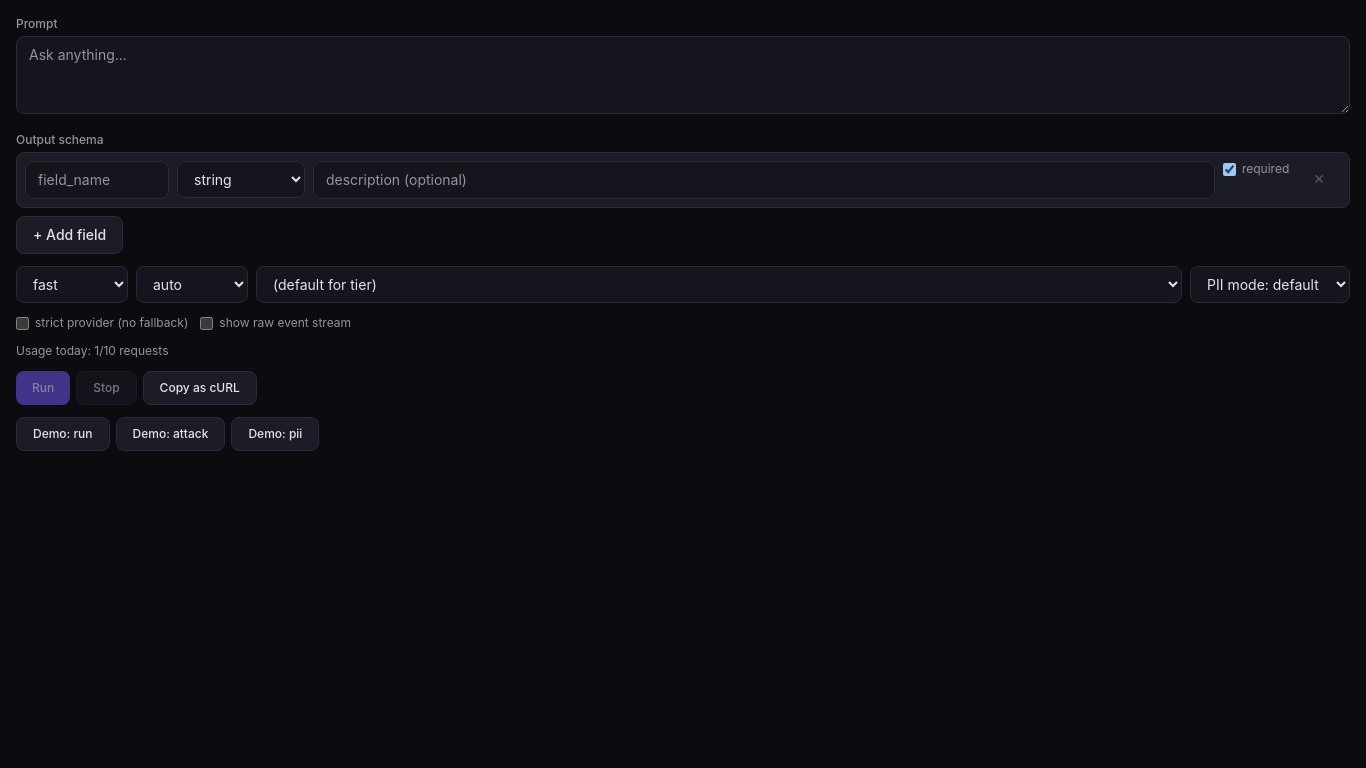
Test: LiveRunPanel error handling › shows a friendly message, a live countdown, and details for a 429
Step 1. Type "hi" into the text box with placeholder "Ask anything..." → (683, 75), box x1=16 y1=36 x2=1350 y2=114
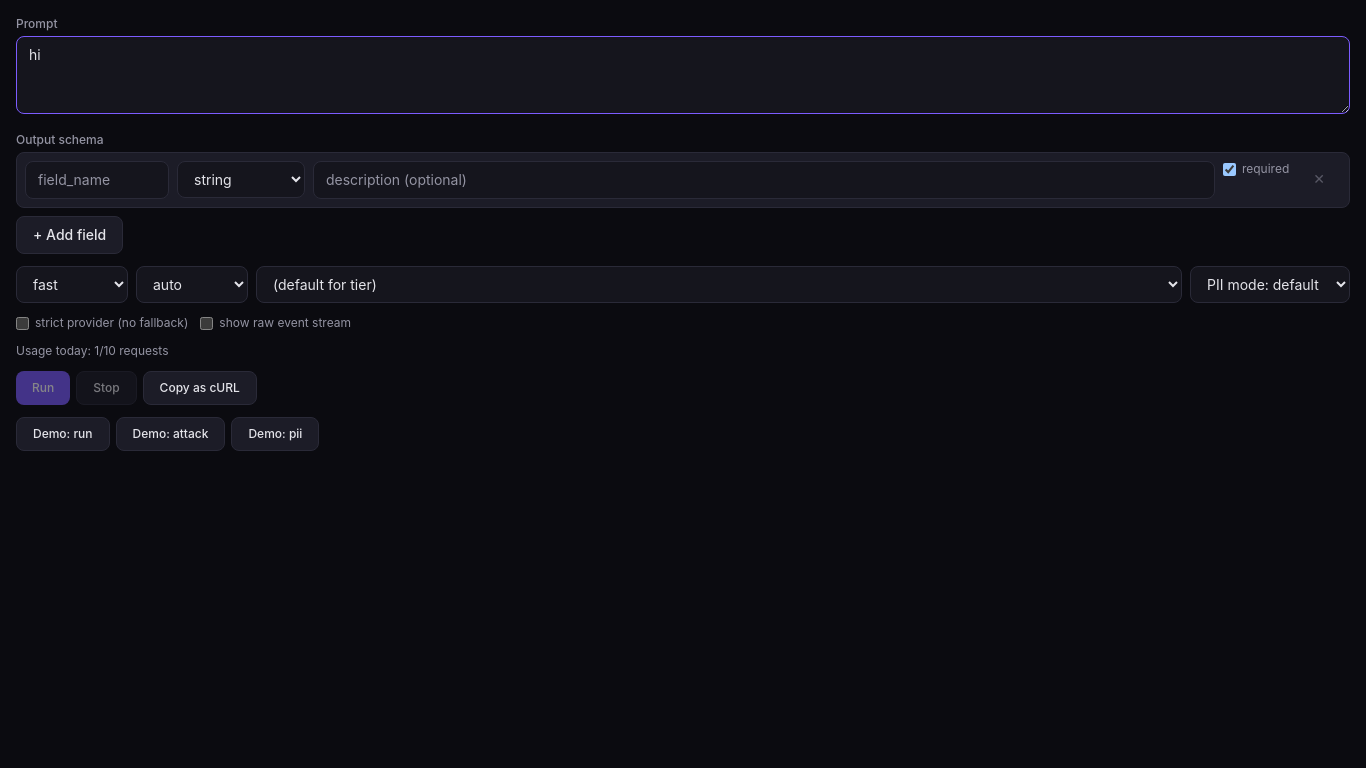
Step 2. Type "answer" into the field with placeholder "field_name" → (97, 180), box x1=25 y1=161 x2=169 y2=199
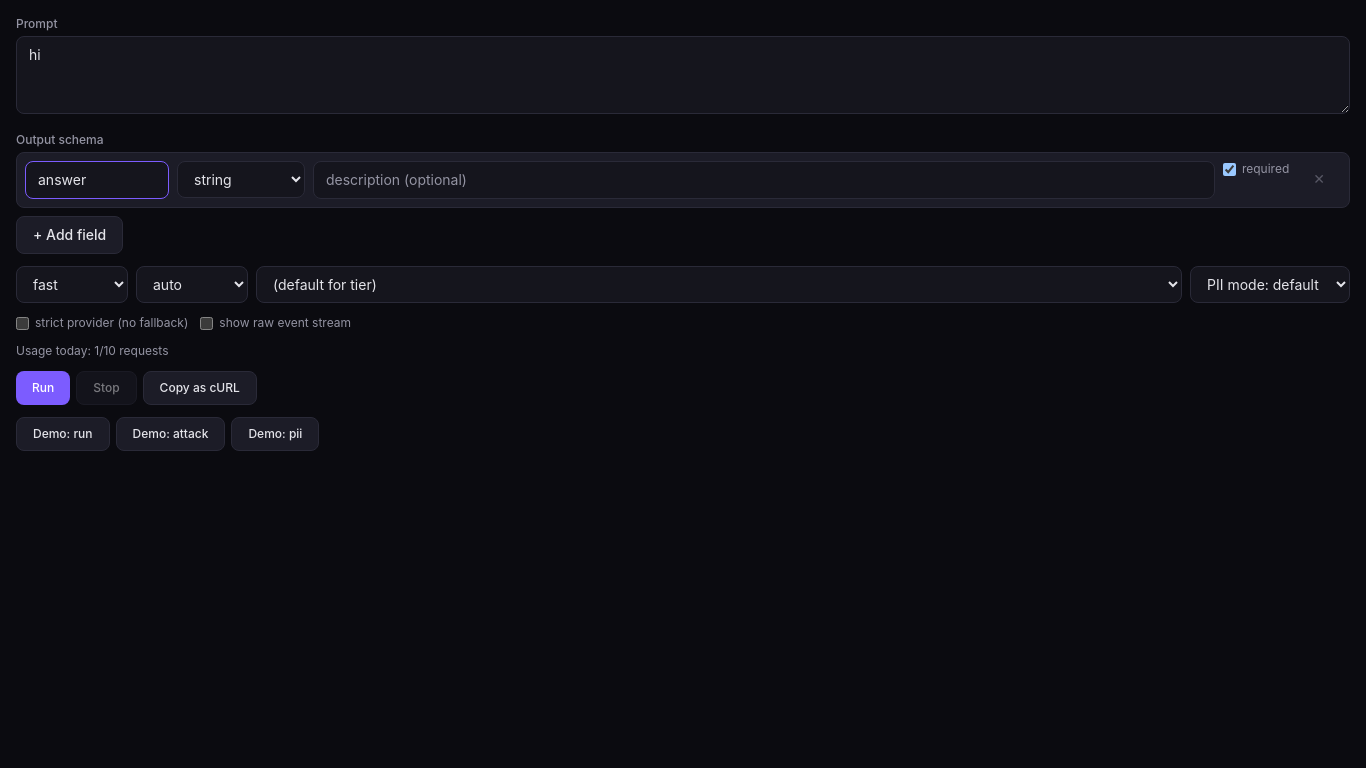
Expected: the button "Run" is enabled
Step 3. Click the button "Run" → (43, 388), box x1=16 y1=371 x2=70 y2=405
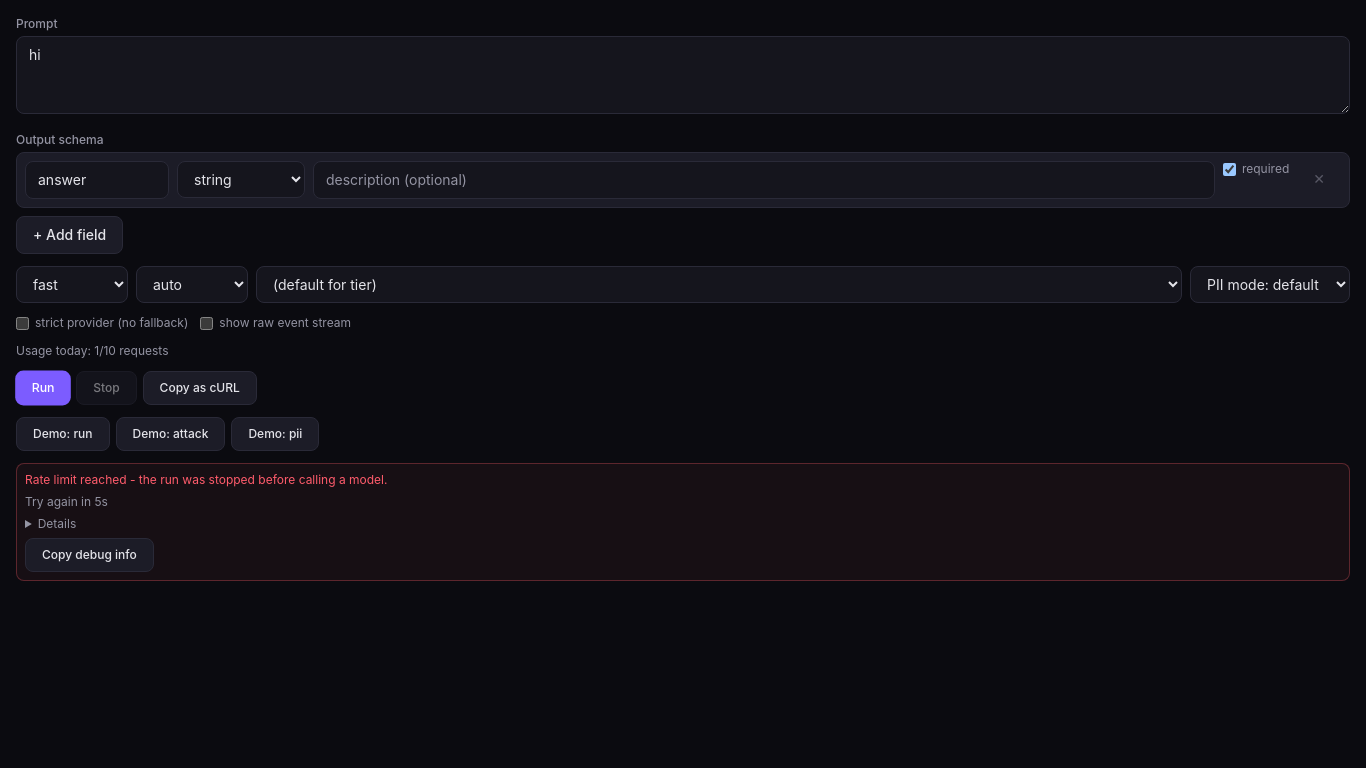
Expected: the text "Rate limit reached" is shown, x1=25 y1=472 x2=387 y2=487
Expected: the text "Try again in 5s" is shown, x1=25 y1=494 x2=108 y2=509
Step 4. Click the heading "Details" → (57, 524), box x1=38 y1=516 x2=76 y2=531
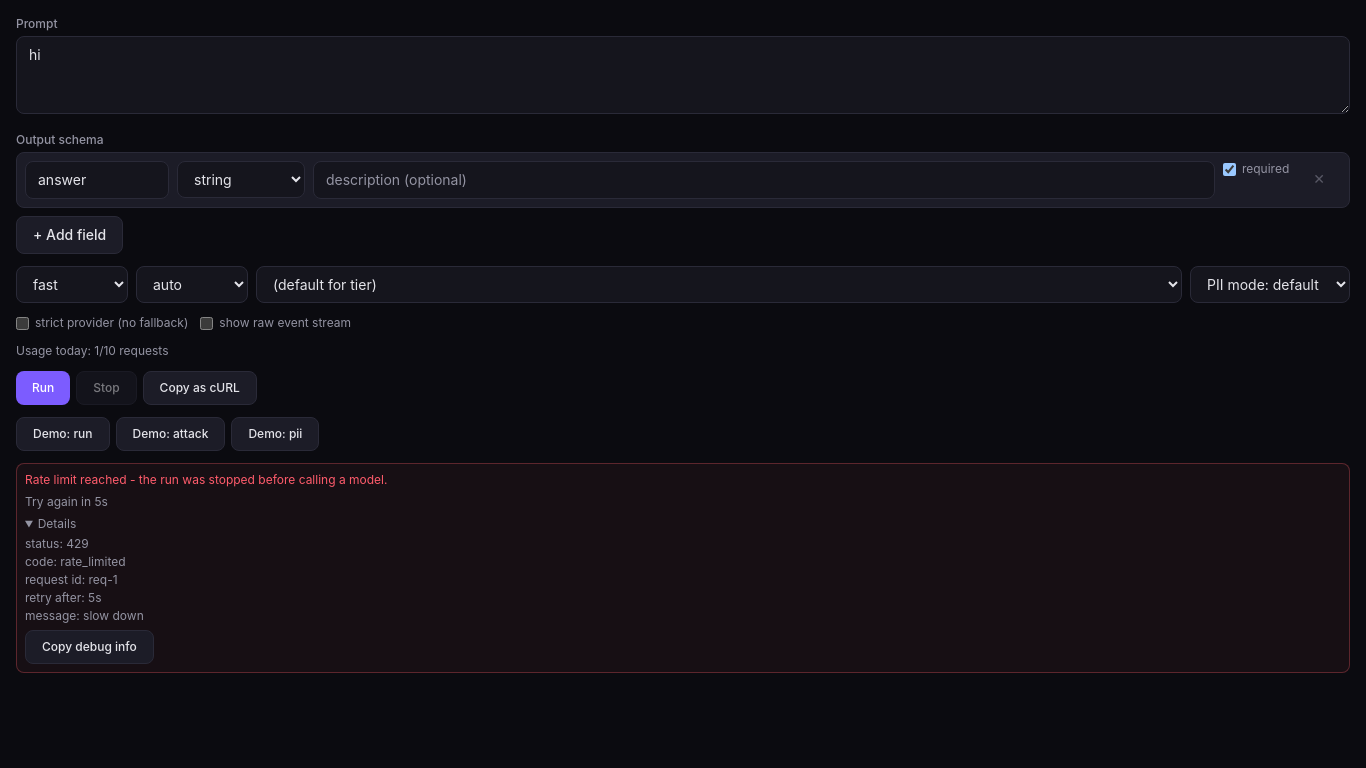
Expected: the text "status: 429" is shown, x1=25 y1=536 x2=89 y2=551
Expected: the text "request id: req-1" is shown, x1=25 y1=572 x2=118 y2=587
